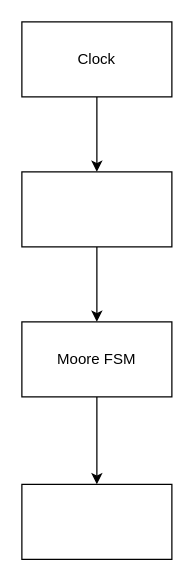
The diagram is 194 pixels wide and 581 high, and some of its shapes have lost their labels. The box of each missing label's shape, as (x1, y1, x2, y2) in pixels:
Timer Circuit: (21, 171, 172, 247)
Traffic lights: (21, 483, 172, 559)
